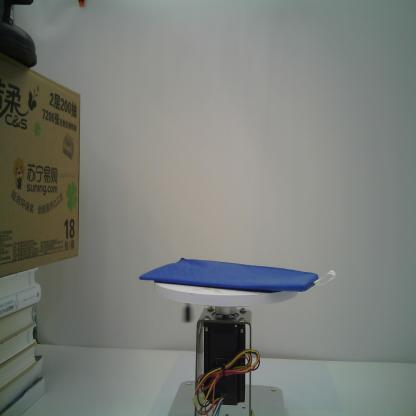Stationery: (138, 256, 338, 324)
